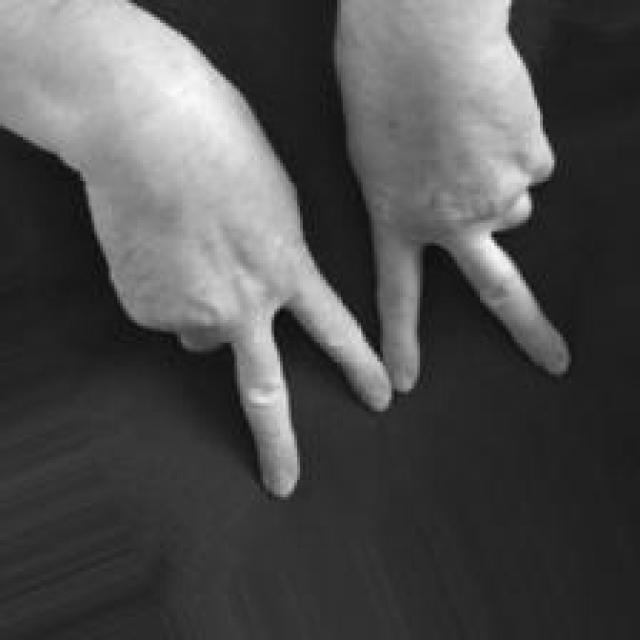M: (80, 0, 577, 500)
